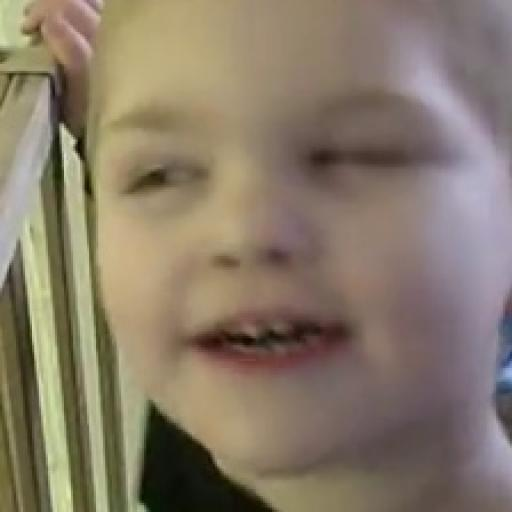Autism: (61, 14, 497, 511)
